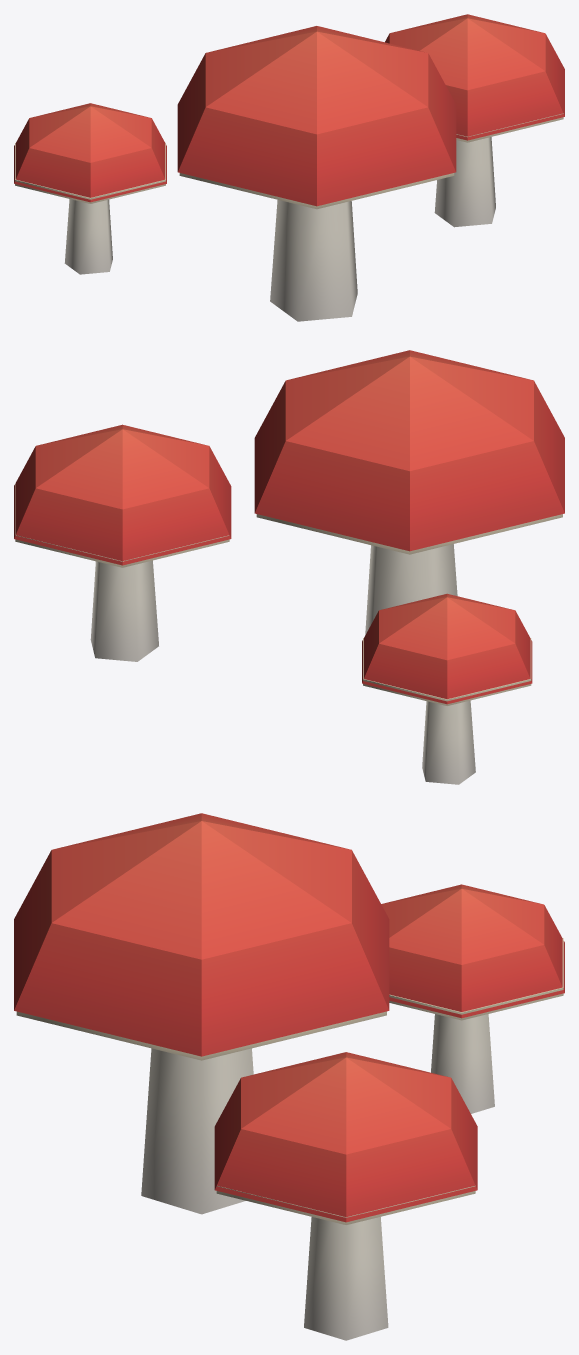
Rendered from mushrooms.glb.
The picture shows the model from 3 angles, top to bottom: view 1: azimuth 30°, elevation 25°; view 2: azimuth 150°, elevation 25°; view 3: azimuth 270°, elevation 25°; orthographic projection. The views are drawn at different scales.
Parts seen in each view (by area): view 1: mushrooms; view 2: mushrooms; view 3: mushrooms.
Boxes of the visible parts, x1,y1,x2,y2 form: mushrooms: [14, 14, 564, 321]; mushrooms: [14, 350, 564, 784]; mushrooms: [14, 813, 564, 1340].
Bounding box in the file's own units: 2.74 × 1.4 × 1.91.
1 material, 1 textured.
